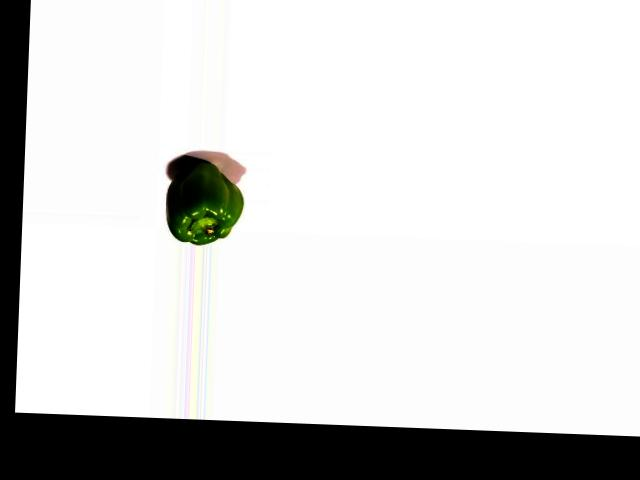bell_pepper: (163, 155, 248, 246)
